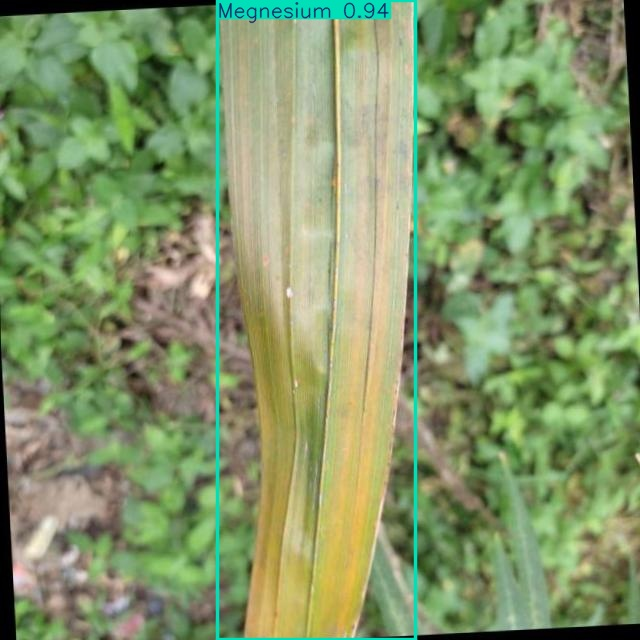Megnesium: (217, 0, 415, 639)
